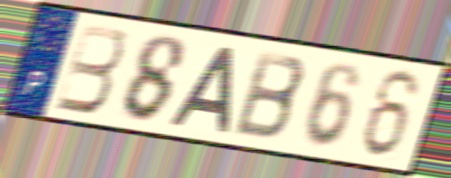6: (301, 60, 364, 151), (360, 68, 421, 161)
8: (122, 33, 187, 124)
A: (166, 43, 237, 135)
B: (230, 48, 309, 143), (53, 21, 128, 116)
